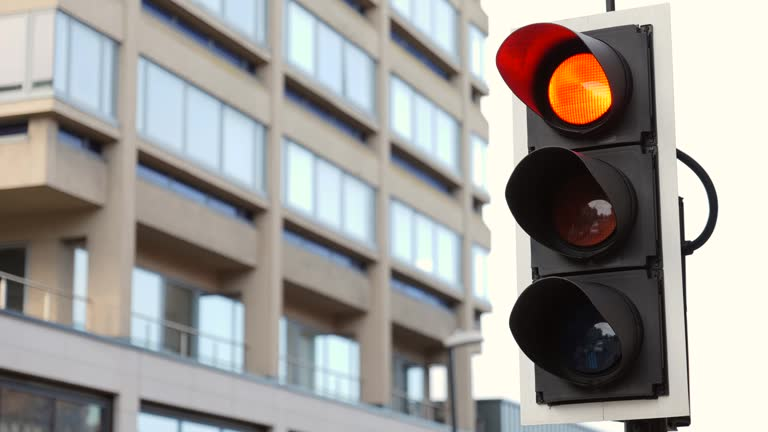Traffic Signal: (492, 17, 685, 414)
